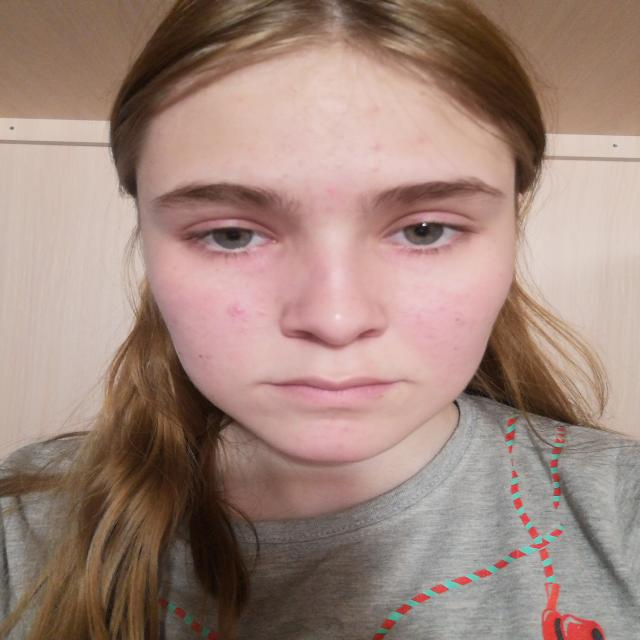Acne: (223, 303, 249, 320), (367, 100, 383, 116), (412, 311, 426, 327), (323, 185, 339, 198), (366, 164, 382, 176), (412, 134, 428, 146), (452, 316, 468, 328), (368, 141, 383, 152), (332, 442, 348, 451), (339, 424, 353, 434), (257, 308, 268, 318)
